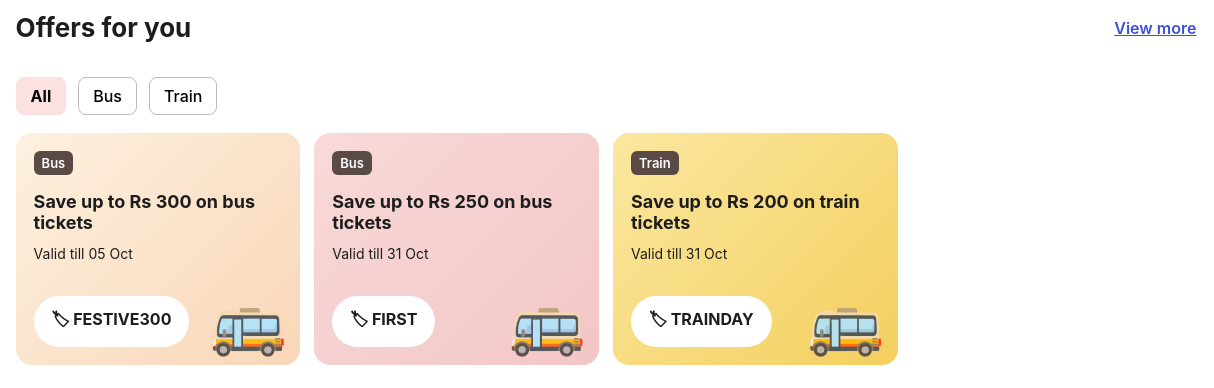
Test: Offers › shows a manual-copy message when the clipboard write fails
Click the button "🏷 FESTIVE300" at (112, 322), box [34, 296, 189, 347]
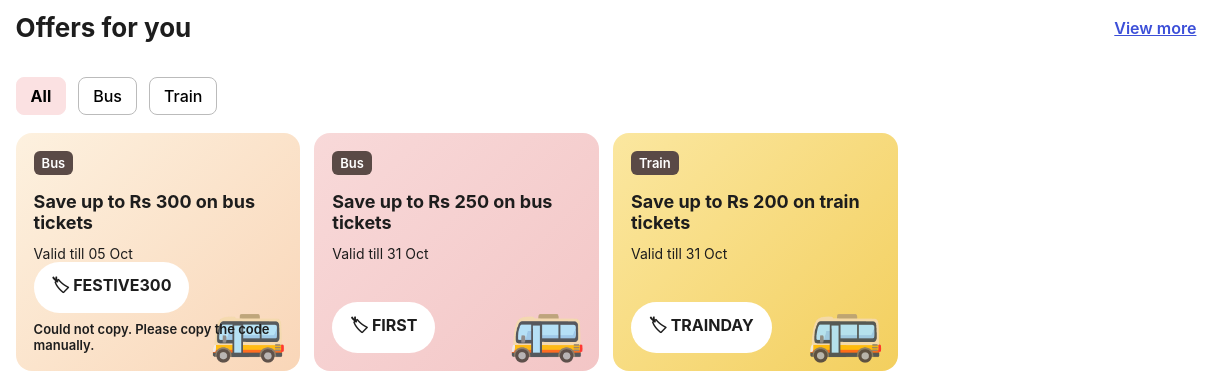
Result: the message reads "Could not copy. Please copy the code manually." at [34, 321, 270, 353]
